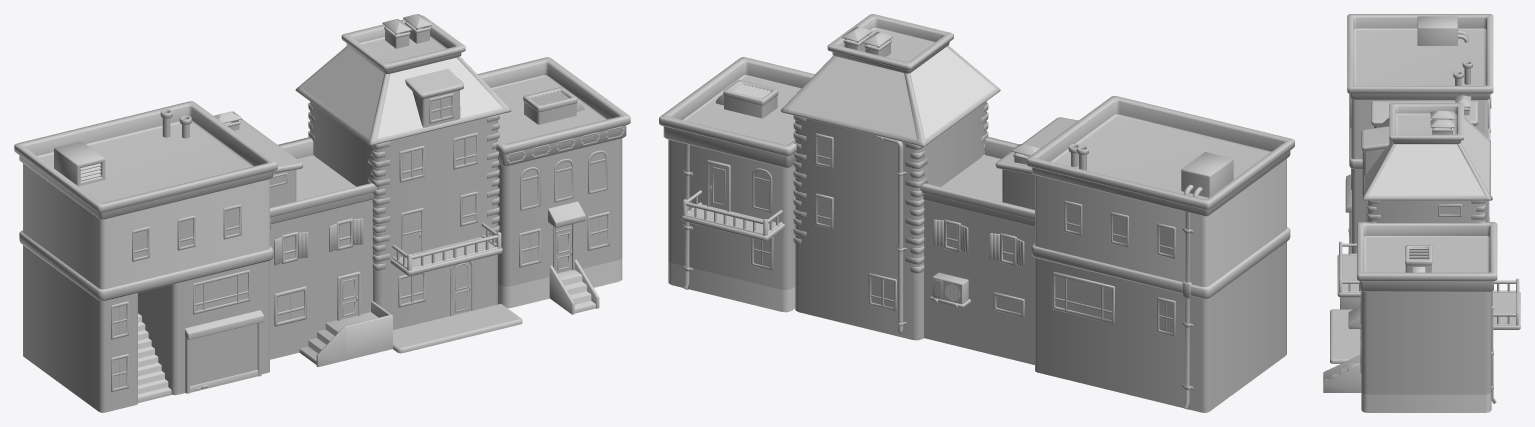
The model's file is 4_house_set_01.fbx.
3 views of the same model, side by side, from view 1: azimuth 30°, elevation 25°; view 2: azimuth 150°, elevation 25°; view 3: azimuth 270°, elevation 25° (orthographic). The views are drawn at different scales.
Visible parts, largest first — view 1: 4_house_set_01, 4_house_set_01_bricks, 4_house_set_01_roof; view 2: 4_house_set_01, 4_house_set_01_bricks, 4_house_set_01_roof; view 3: 4_house_set_01, 4_house_set_01_roof, 4_house_set_01_bricks.
Boxes of the visible parts, x1,y1,x2,y2 form: 4_house_set_01: (14,14,630,412); 4_house_set_01_bricks: (23,163,622,308); 4_house_set_01_roof: (301,47,501,138); 4_house_set_01: (659,14,1294,412); 4_house_set_01_bricks: (668,159,1286,312); 4_house_set_01_roof: (789,47,994,139); 4_house_set_01: (1323,14,1520,403); 4_house_set_01_roof: (1365,119,1488,195); 4_house_set_01_bricks: (1351,99,1491,412).
Bounding box in the file's own units: 16.58 × 7.9 × 6.2.
